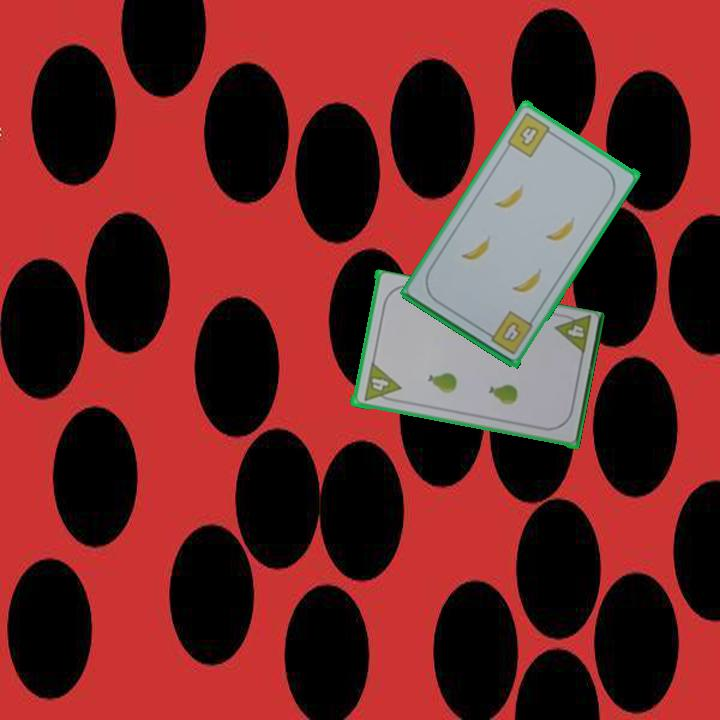4b: (503, 108, 558, 160), (481, 307, 536, 357)
4p: (551, 310, 594, 358), (360, 360, 403, 405)
